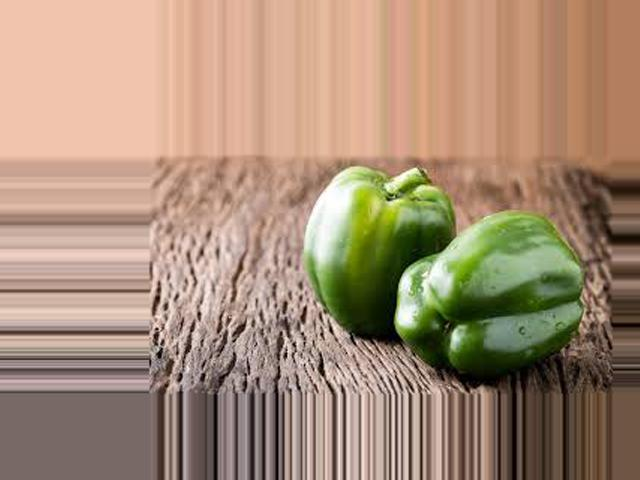bell_pepper: (386, 206, 581, 368)
